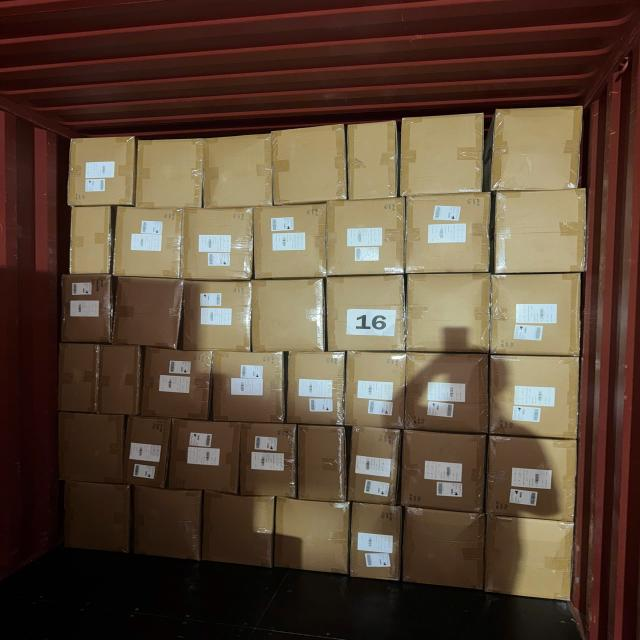Carton: (496, 188, 590, 273), (488, 435, 582, 520), (488, 516, 580, 602), (489, 275, 580, 360), (487, 353, 579, 437), (501, 109, 586, 192), (404, 194, 490, 276), (405, 272, 491, 354), (402, 507, 483, 594), (400, 432, 483, 516), (403, 350, 488, 432), (402, 113, 483, 196), (326, 276, 406, 354), (325, 198, 404, 276), (275, 496, 349, 575), (273, 128, 346, 208), (200, 493, 272, 572), (252, 278, 326, 354), (254, 204, 328, 279), (213, 348, 287, 422), (172, 419, 243, 494), (132, 487, 201, 564), (183, 206, 255, 279), (182, 279, 253, 353), (204, 134, 273, 210), (112, 205, 183, 278), (62, 483, 129, 558), (141, 347, 210, 419), (138, 140, 206, 213), (343, 352, 405, 432), (116, 276, 183, 350), (56, 410, 123, 484), (68, 135, 136, 206), (288, 352, 348, 428), (243, 422, 299, 499), (348, 503, 400, 583), (348, 427, 400, 507), (347, 123, 398, 203), (299, 425, 349, 503), (62, 275, 114, 344), (125, 418, 169, 492), (97, 343, 139, 416), (68, 203, 110, 275), (60, 343, 98, 415)
